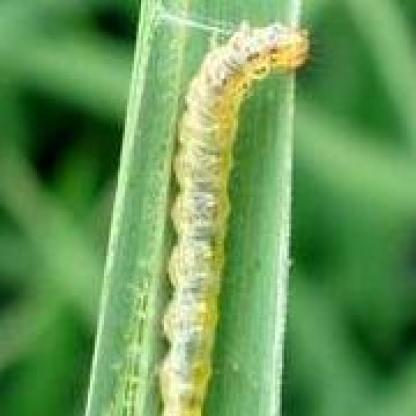leaf-folder: (140, 9, 318, 416)
